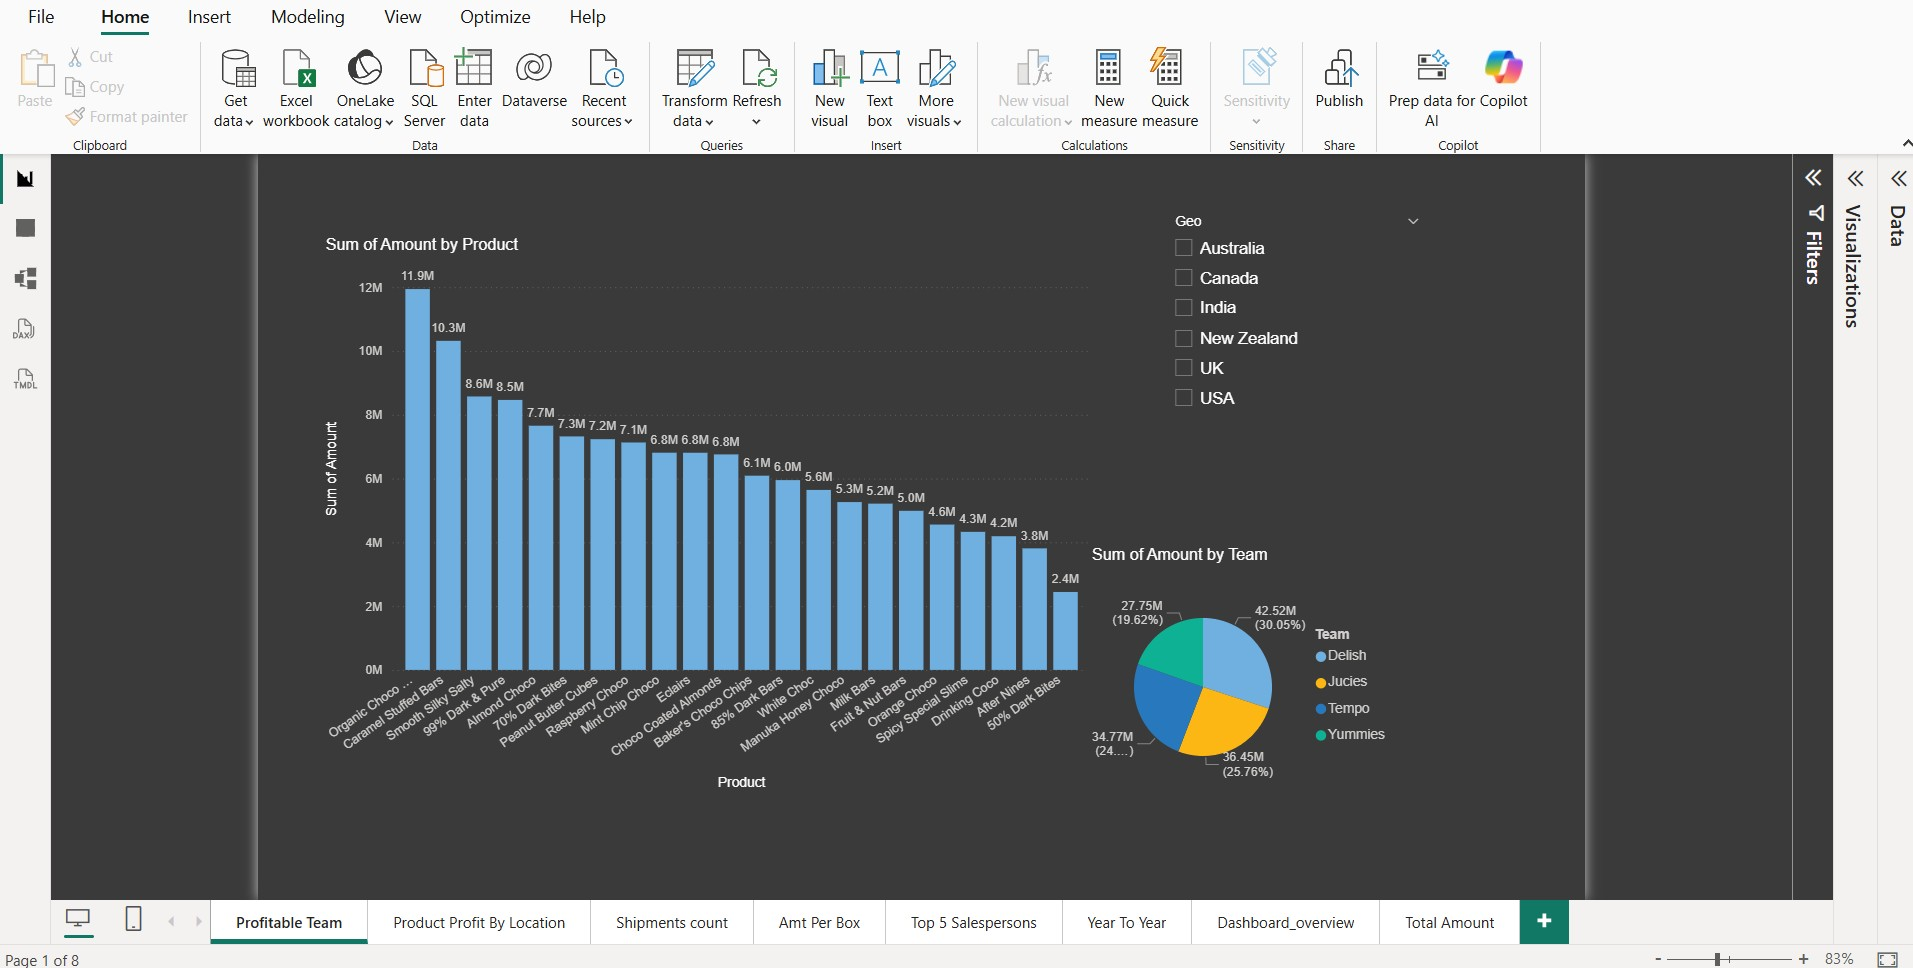

Layout of this report page (visuals, bound fields, positions):
{"tool":"powerbi","page":{"name":"Profitable Team","canvas":[1280,720],"ordinal":0},"visuals":[{"type":"columnChart","fields":{"Category":["products.Product"],"Y":["Sum(shipments.Amount)"]},"box":[60.9,78.2,748.2,540.9],"z":0},{"type":"slicer","fields":{"Values":["locations.Geo"]},"box":[872.7,53.6,260.9,222.7],"z":1000},{"type":"pieChart","fields":{"Category":["people.Team"],"Y":["Sum(shipments.Amount)"]},"box":[800,378.2,301.8,256.4],"z":2000}]}

Visuals, with their boxes on the page's 1280x720 design canvas (x1, y1, x2, y2). These are canvas units, not pixel positions in the 1913x968 screenshot, which may show the page scaled, cropped or inside an application window:
columnChart - products.Product x Sum(shipments.Amount): 61/78/809/619
slicer - locations.Geo: 873/54/1134/276
pieChart - people.Team x Sum(shipments.Amount): 800/378/1102/635
